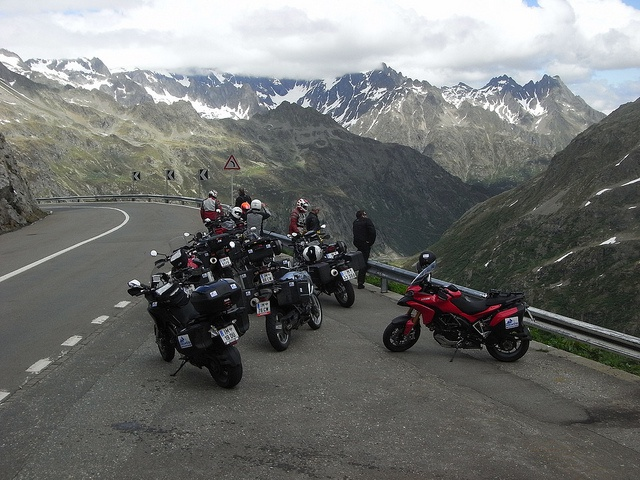non-vehicle: (382, 261, 535, 363), (125, 270, 249, 389), (281, 222, 370, 309), (256, 242, 325, 354), (210, 235, 261, 311), (152, 235, 220, 290), (233, 222, 284, 270), (203, 216, 237, 233), (183, 231, 213, 250), (239, 211, 250, 224)
